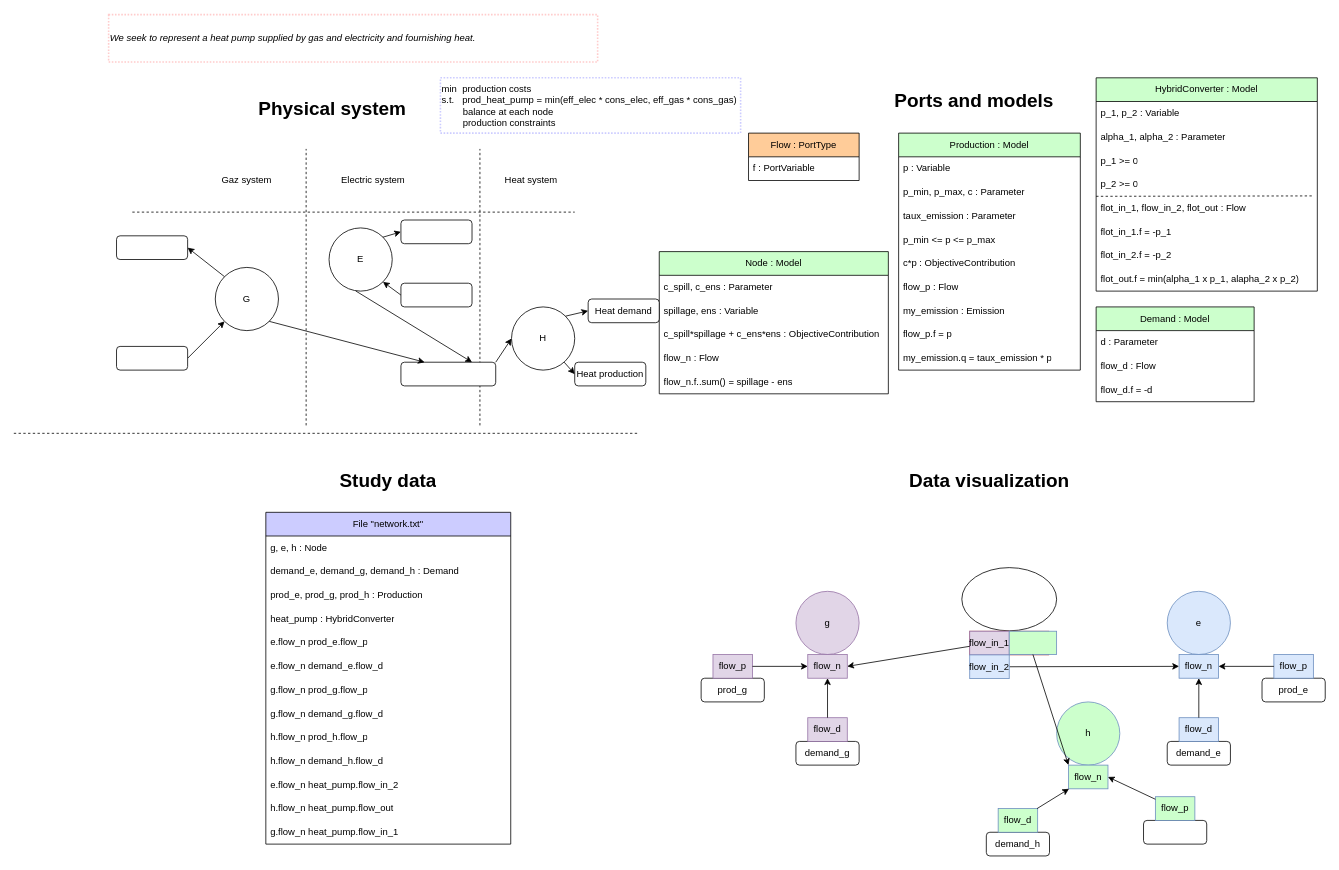
This 1339x870 diagram has some shape labels left out. Here are the shapes that lost their labels. From the top down, the centre of each, then its label:
At point (152, 247): "Gaz demand".
At point (436, 231): "Elec demand".
At point (436, 294): "Elec production".
At point (152, 358): "Gaz production".
At point (448, 373): "Hybrid heat pump".
At point (1009, 599): "heat_pump".
At point (1032, 642): "flow_out".
